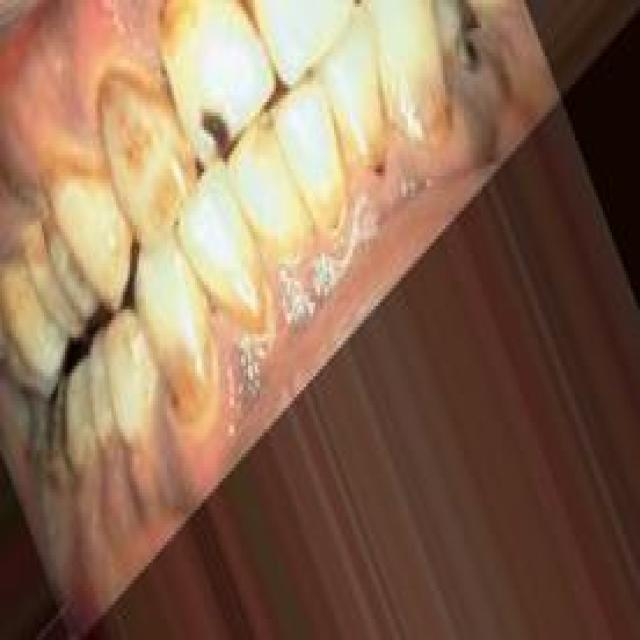caries: (192, 91, 242, 172), (442, 0, 488, 80)
